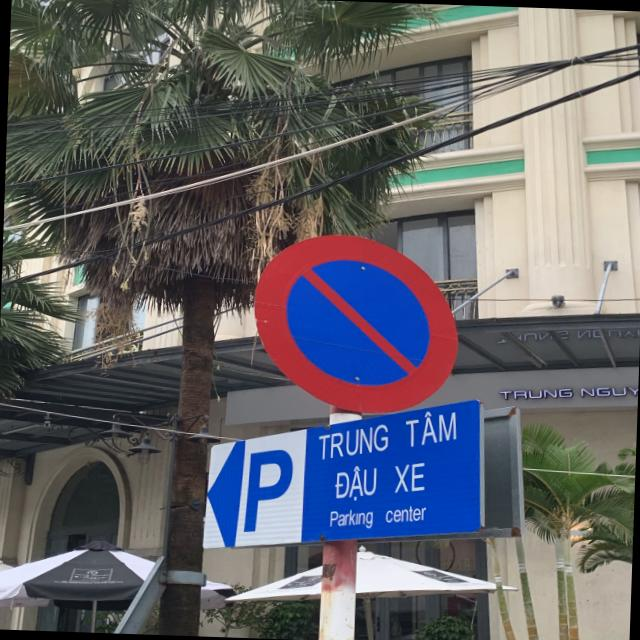Cam_Dau_Xe: (250, 232, 462, 418)
